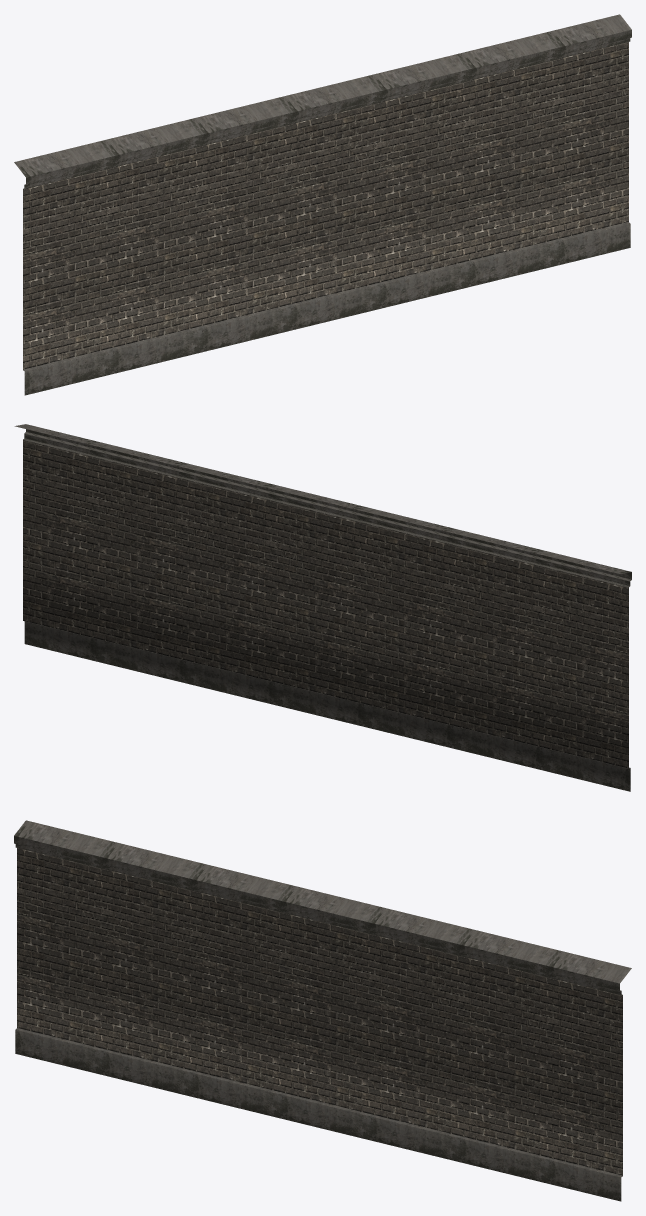
File: backWallMedium.FBX
3 views of the same model, one above another, from view 1: azimuth 30°, elevation 25°; view 2: azimuth 150°, elevation 25°; view 3: azimuth 330°, elevation 25° (orthographic).
Visible parts, largest first — view 1: backWallMedium; view 2: backWallMedium; view 3: backWallMedium.
Boxes of the visible parts, x1,y1,x2,y2 form: backWallMedium: [14, 14, 631, 395]; backWallMedium: [14, 424, 631, 791]; backWallMedium: [14, 820, 631, 1201].
Bounding box in the file's own units: 2457 × 874 × 84.22.
Materials: 2 (2 with a texture image).
